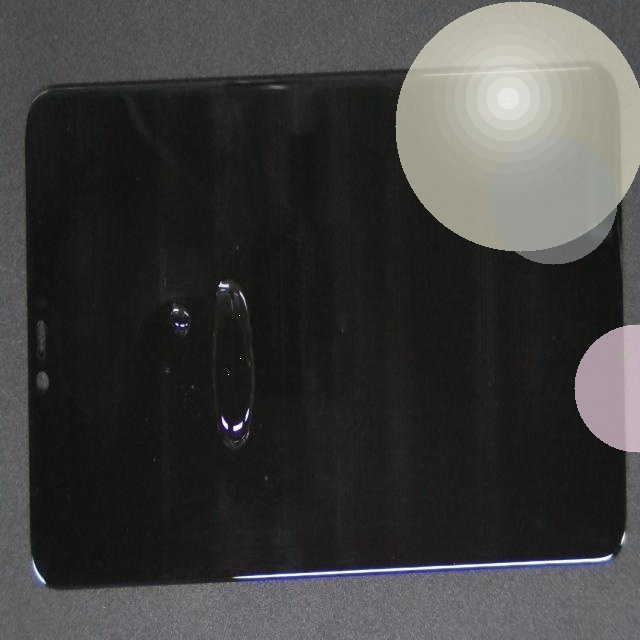oil: (111, 105, 325, 457)
